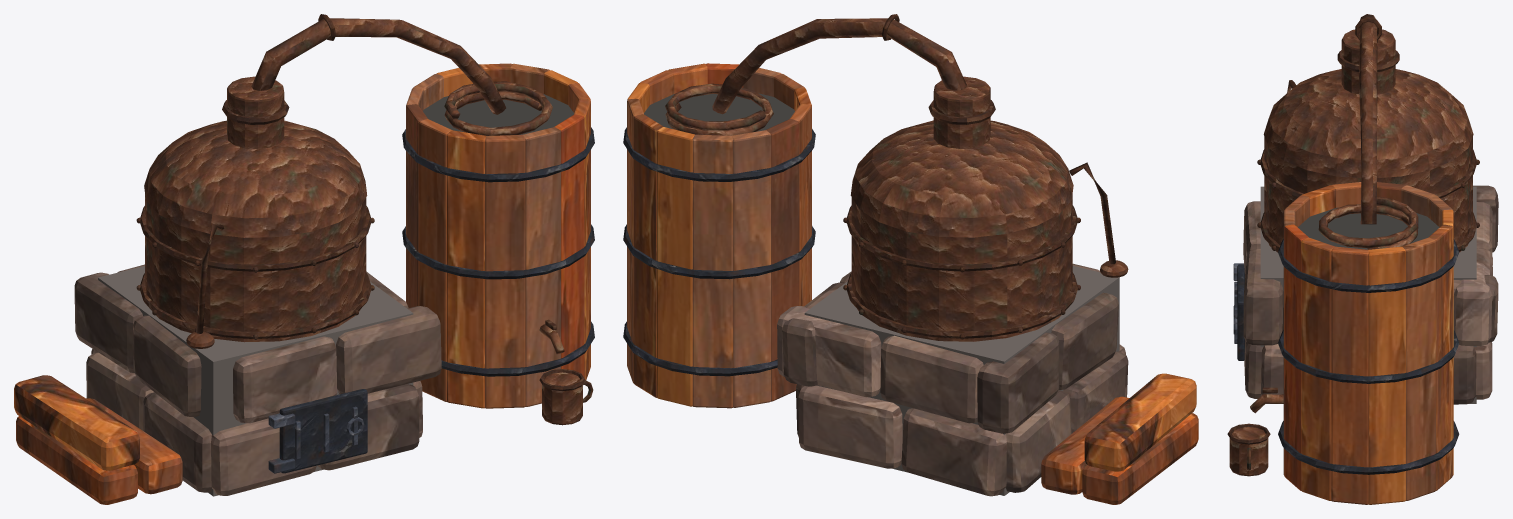
File: op_still.glb
The picture shows the model from 3 angles, left to right: view 1: azimuth 30°, elevation 25°; view 2: azimuth 150°, elevation 25°; view 3: azimuth 270°, elevation 25°; orthographic projection. The views are drawn at different scales.
Parts seen in each view (by area): view 1: model; view 2: model; view 3: model.
Boxes of the visible parts, box(x1,y1,x2,y2) form: model: box(14, 14, 594, 504); model: box(623, 14, 1198, 504); model: box(1227, 14, 1498, 504).
Bounding box in the file's own units: 1.48 × 1.07 × 0.7027.
Materials: 21 (19 with a texture image).
